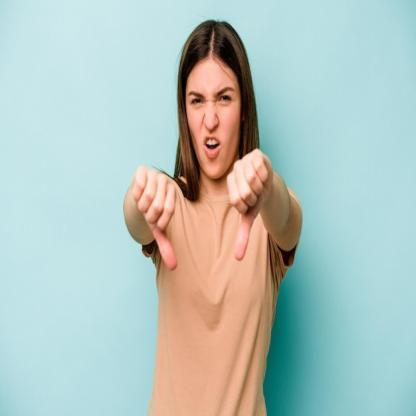thumb_down: (226, 144, 276, 263), (130, 163, 180, 275)
